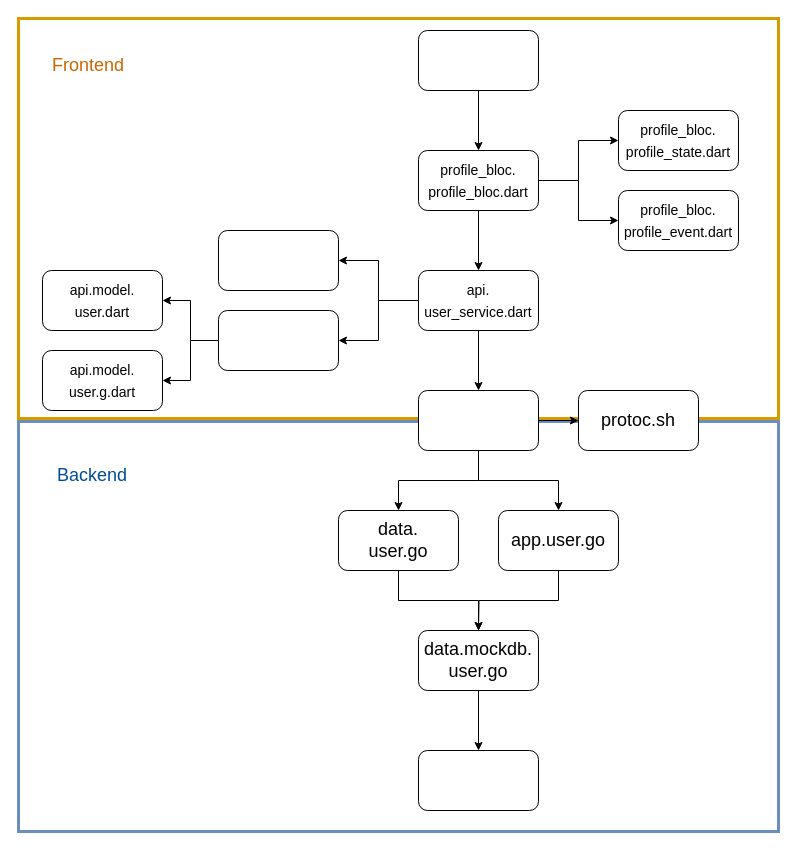
Image size: 797x850. Some labels were removed from this diagram. Each missing label, with the centre of its shape:
"api.cache. cache_user_service.dart" belongs at point 278,340.
"api.grpc. grpc_user_service.dart" belongs at point 278,260.
"data.mockdb. mockdb.go" belongs at point 478,780.
"pages.profile. edit_profile_page.dart" belongs at point 478,60.
"protos. user.proto" belongs at point 478,420.
